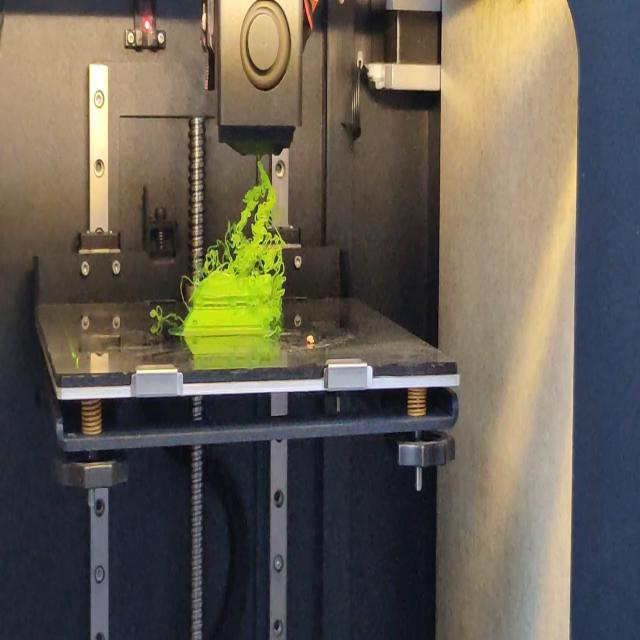spaghetti: (198, 160, 285, 281), (146, 307, 186, 328), (272, 282, 286, 330), (178, 275, 192, 305)
